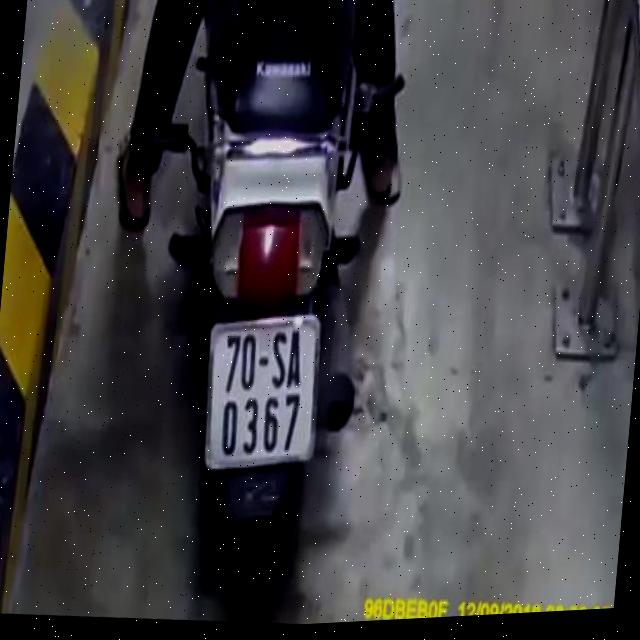motorcycle: (115, 0, 412, 634)
plate: (190, 301, 334, 486)
